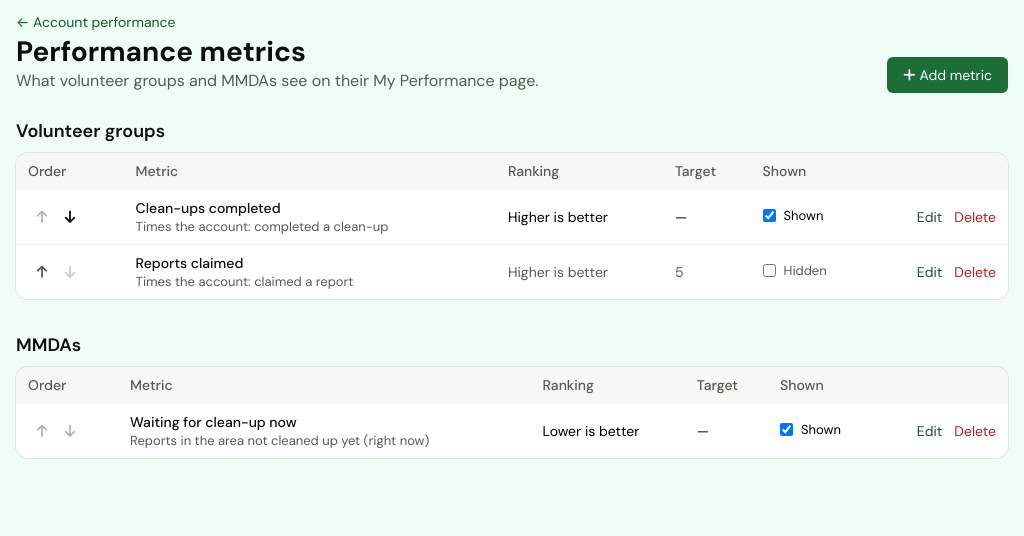
Test case: hides and shows a metric
The image size is (1024, 536).
Expected: the row with test id "row-volunteer-vol_cleanups_completed" is shown, [16,190,1008,244]
Click the checkbox named "Show Clean-ups completed": (769, 216) [763,209,776,222]
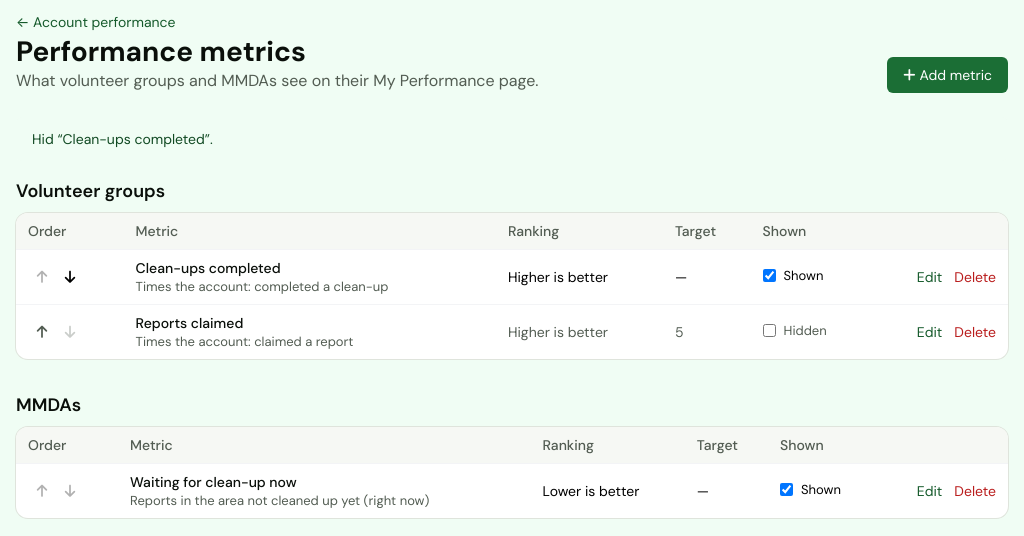
Result: the message reads "Hid “Clean-ups completed”." at [32,130,213,148]
